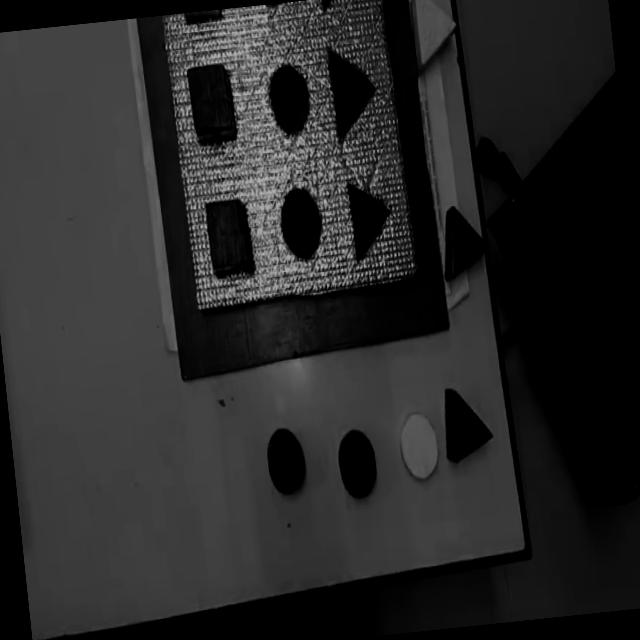bcircle: (334, 426, 379, 502)
bcube: (204, 196, 254, 276)
btriangle: (438, 382, 494, 466), (436, 201, 487, 282)
mtcircle: (276, 185, 326, 263), (266, 62, 314, 140)
mtcube: (320, 0, 335, 12)
mttriangle: (326, 44, 382, 144), (346, 179, 396, 264)
rcircle: (263, 426, 307, 498)
rcube: (184, 60, 238, 144)
wb: (157, 0, 418, 316)
ycircle: (395, 408, 441, 484)
ytriangle: (407, 0, 461, 76)
